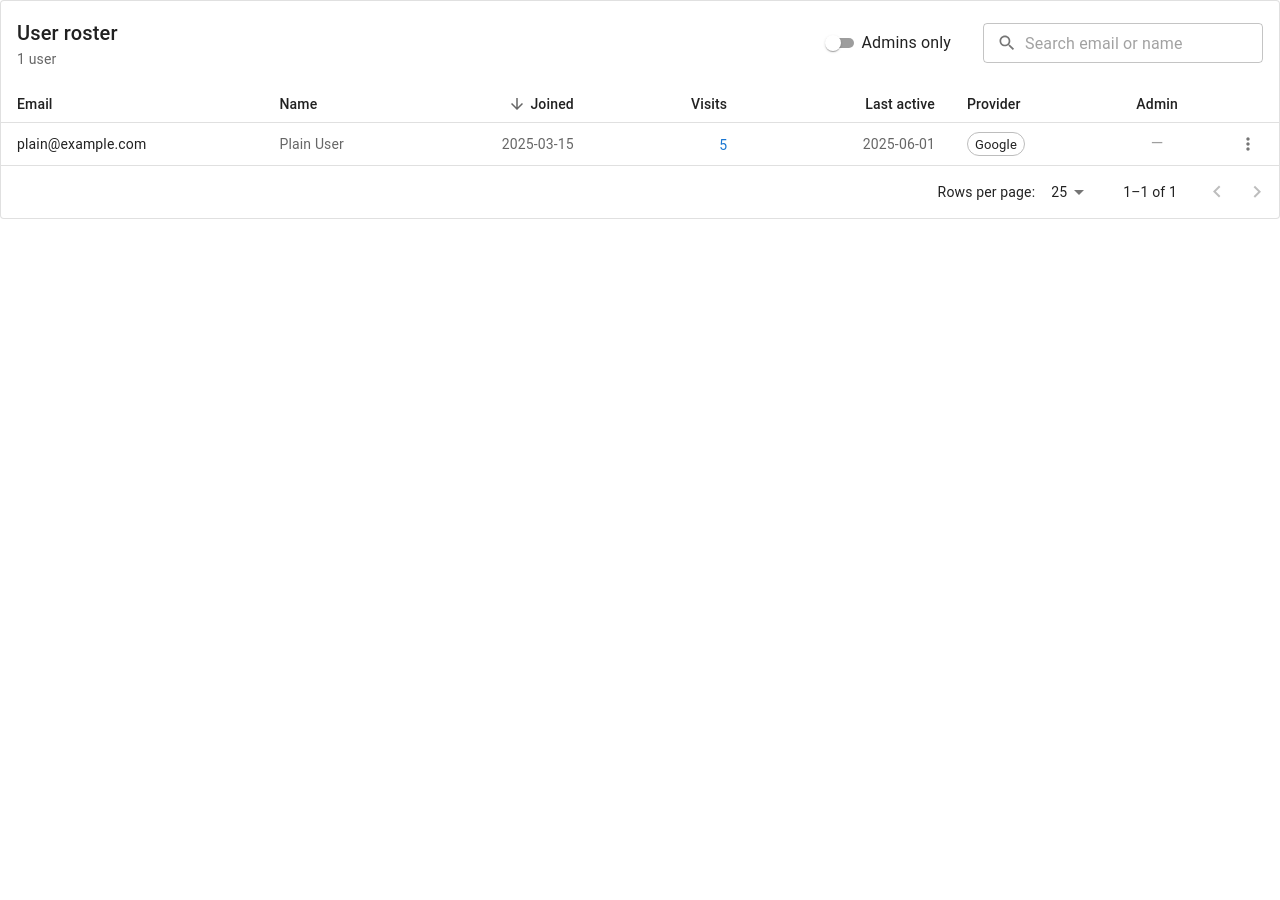
it: UserRosterTable › opens the visit-history modal when the Visits number is clicked
Step 1. Click the button named "View 5 visit timestamps for plain@example.com" → (723, 145), box [719,135,727,155]
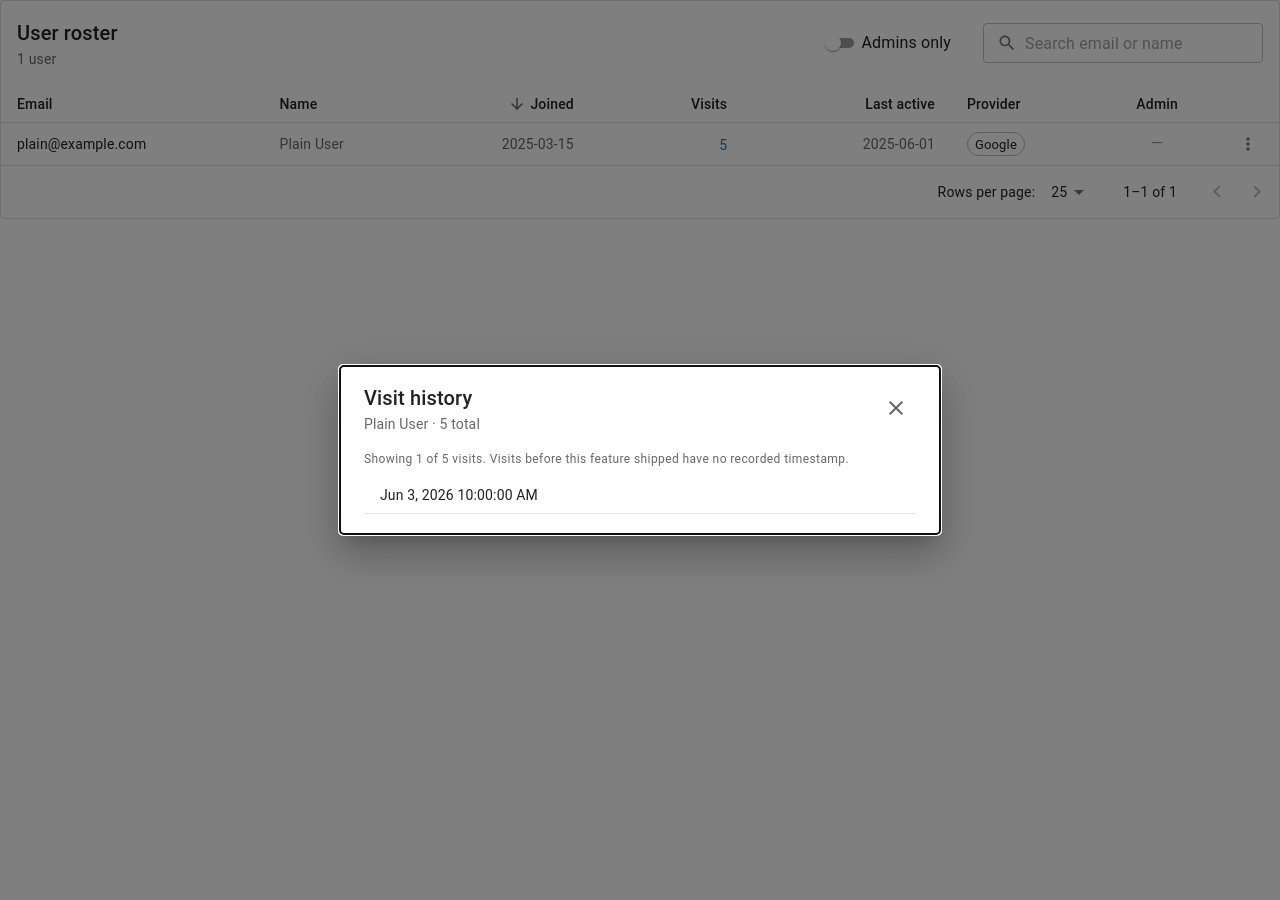
Check: the text "Visit history" is shown, box [364,382,480,414]
